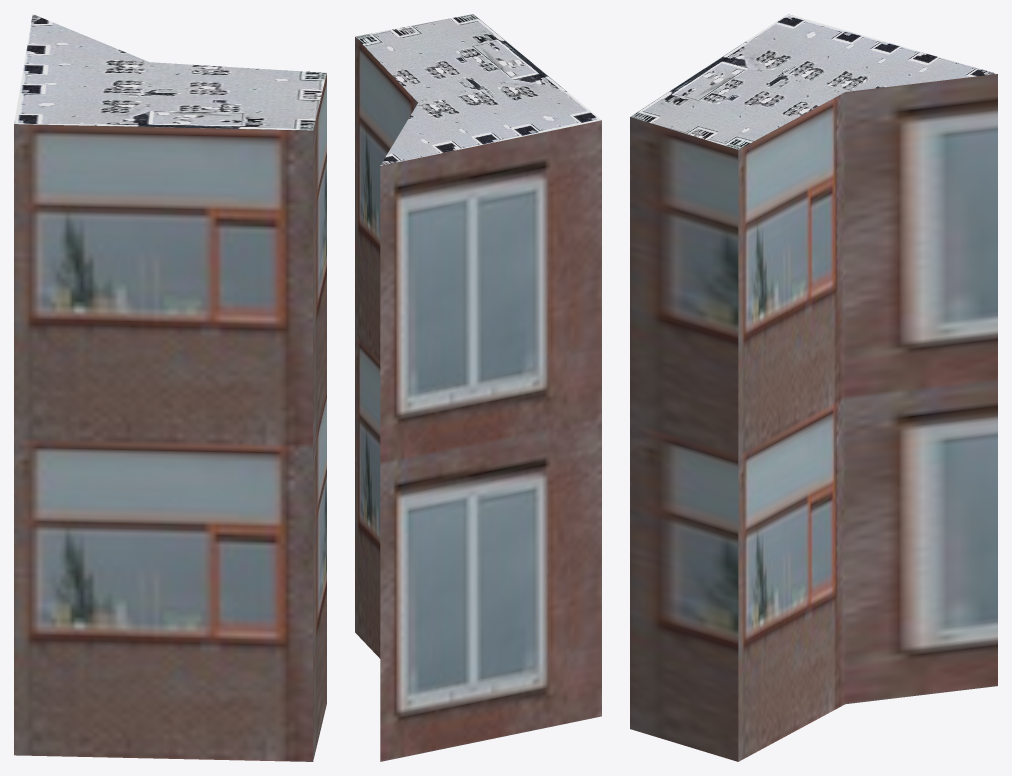
File: ResTex__3245.fbx
3 renders of one model, left to right at view 1: azimuth 30°, elevation 25°; view 2: azimuth 150°, elevation 25°; view 3: azimuth 270°, elevation 25°, orthographic. The views are drawn at different scales.
Parts seen in each view (by area): view 1: CityEngineMaterial_19_m, CityEngineMaterial_15_m; view 2: CityEngineMaterial_19_m, CityEngineMaterial_15_m; view 3: CityEngineMaterial_19_m, CityEngineMaterial_15_m.
Boxes of the visible parts, left/top/right/bottom form: CityEngineMaterial_19_m: left=14, top=73, right=326, bottom=761; CityEngineMaterial_15_m: left=14, top=14, right=326, bottom=130; CityEngineMaterial_19_m: left=355, top=37, right=601, bottom=761; CityEngineMaterial_15_m: left=355, top=14, right=601, bottom=165; CityEngineMaterial_19_m: left=630, top=74, right=997, bottom=761; CityEngineMaterial_15_m: left=630, top=14, right=996, bottom=149.
Size of the model in its own units: 2.85 by 6 by 3.27.
2 materials, 2 textured.
